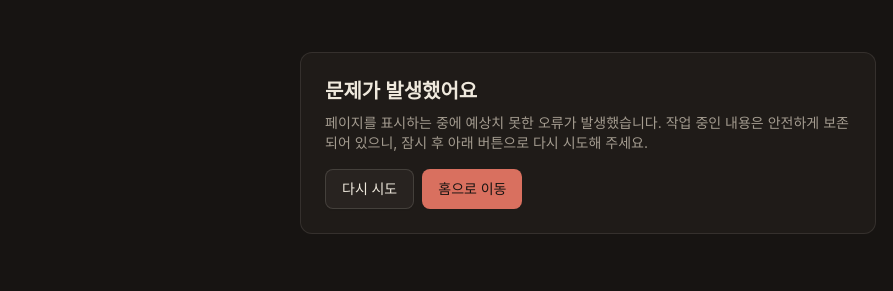
Test: ErrorBoundary › retry button resets error state and renders children again
This screenshot has width=893, height=291.
Expected: the message is shown, [300,12,876,274]
Click the button "다시 시도".
click(370, 189)  # box [325,169,414,209]
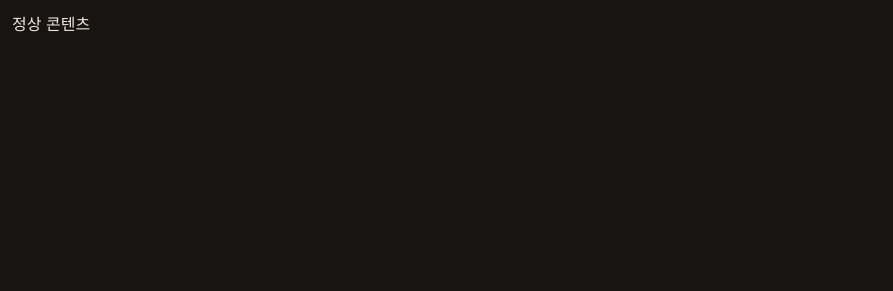
Expected: the message "문제가 발생했어요 페이지를 표시하는 중에 예상치 못한 오류가 발생했습니다. 작업 중인 내용은 안전하게 보존되어 있으니, 잠시 후 아래 버튼으로" is gone
Expected: the text "정상 콘텐츠" is shown, [12,14,90,34]
